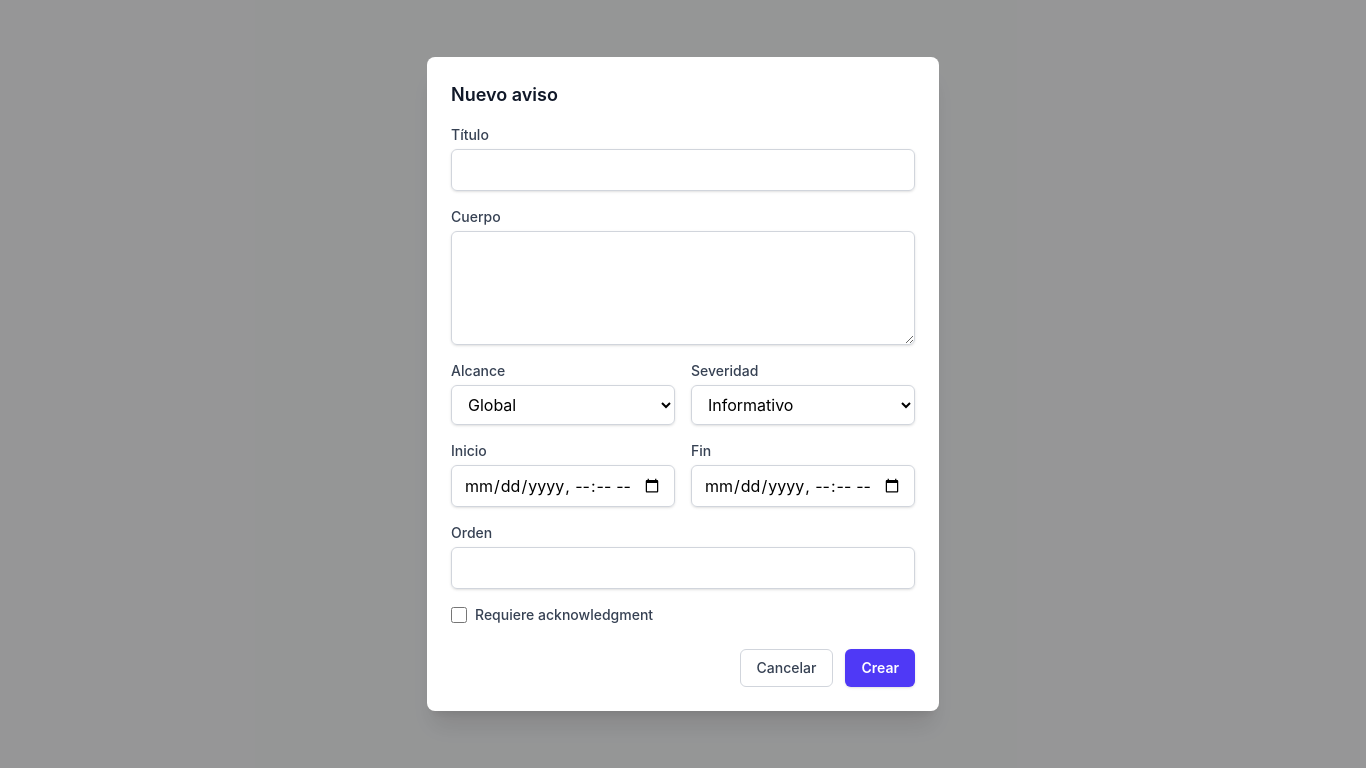
Test: AvisoFormDialog › shows validation errors on submit vacío
Click the button "Crear" at (880, 668), box [845, 649, 915, 687]
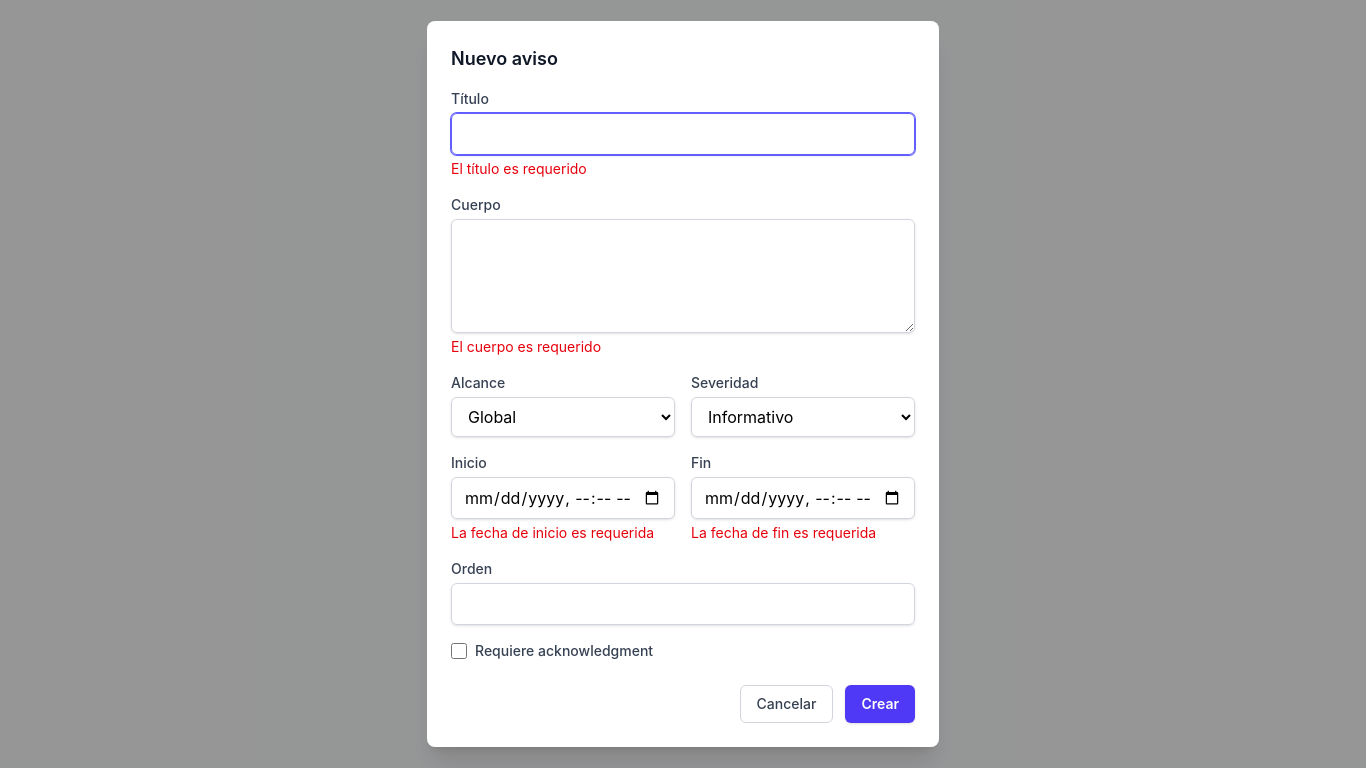
Result: the text "El título es requerido" is shown at [451, 160, 587, 177]
